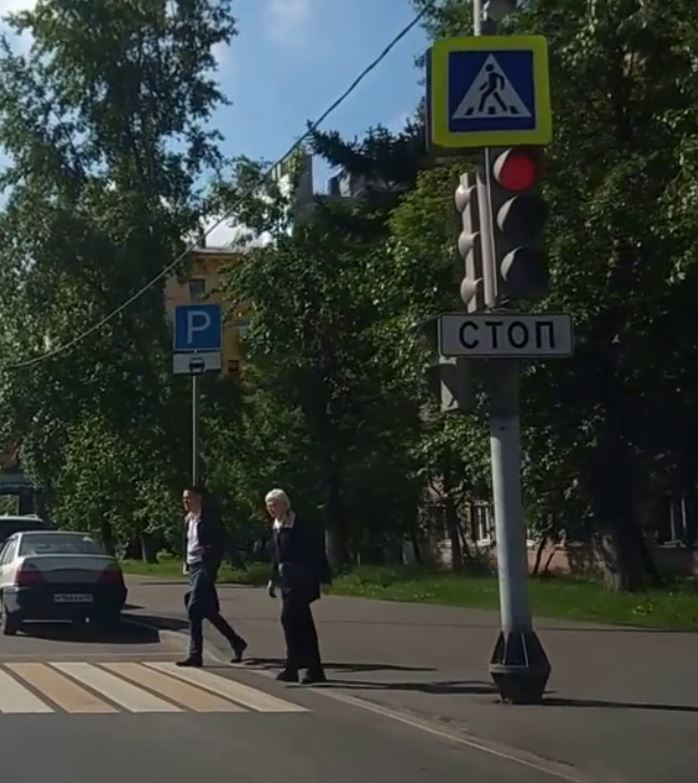Yaya Gecidi: (452, 45, 541, 133)
